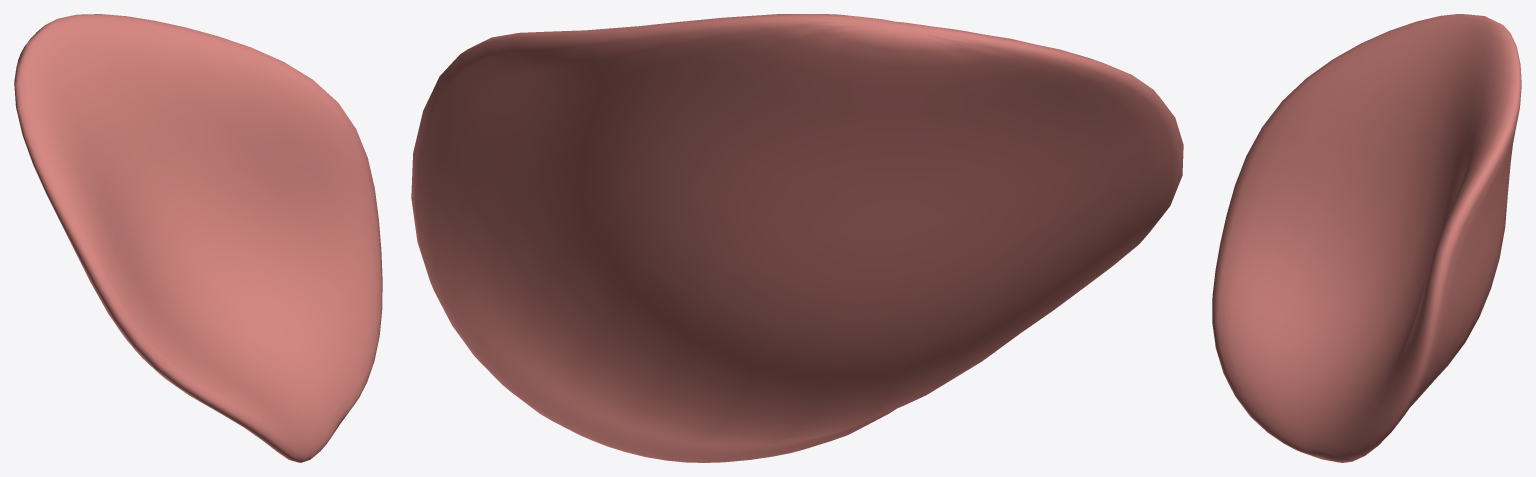
The picture shows the model from 3 angles, left to right: view 1: azimuth 30°, elevation 25°; view 2: azimuth 150°, elevation 25°; view 3: azimuth 270°, elevation 25°; orthographic projection. The views are drawn at different scales.
Parts seen in each view (by area): view 1: ZA_8060b3488a16b921; view 2: ZA_8060b3488a16b921; view 3: ZA_8060b3488a16b921.
Part boxes in pixels (bbox=[...]): ZA_8060b3488a16b921: bbox=[14, 14, 382, 462]; ZA_8060b3488a16b921: bbox=[411, 14, 1183, 462]; ZA_8060b3488a16b921: bbox=[1212, 14, 1521, 462].
Size of the model in its own units: 0.0264 by 0.0255 by 0.0204.
